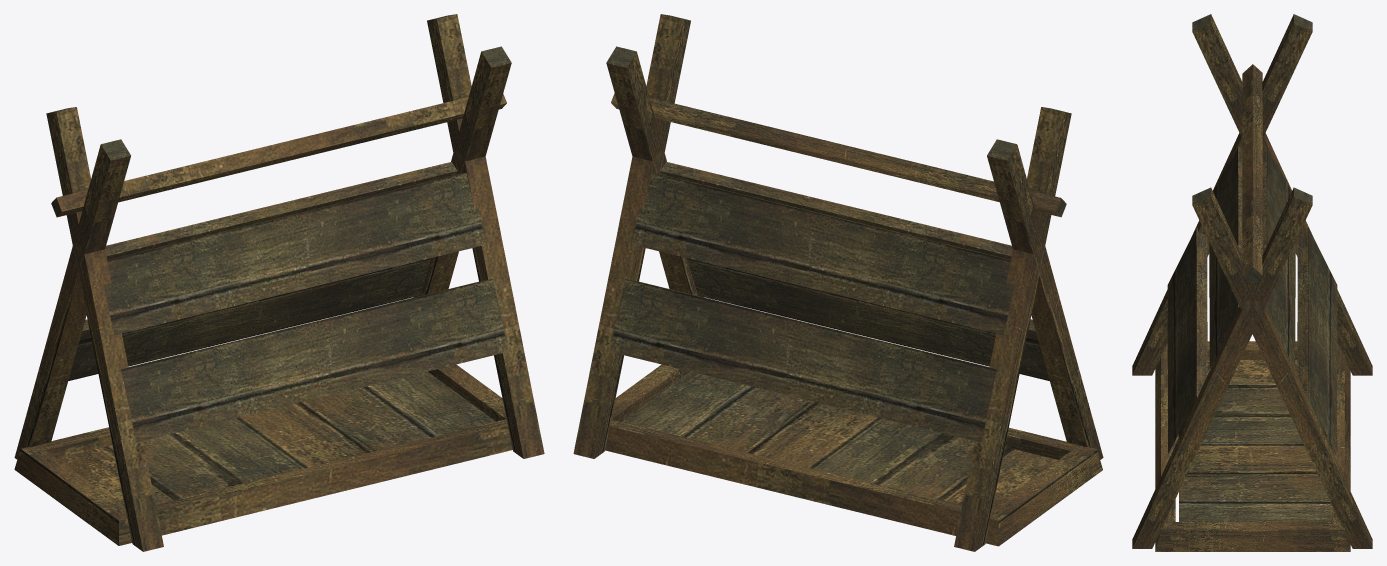
File: table2.fbx
The picture shows the model from 3 angles, left to right: view 1: azimuth 30°, elevation 25°; view 2: azimuth 150°, elevation 25°; view 3: azimuth 270°, elevation 25°; orthographic projection. The views are drawn at different scales.
Parts seen in each view (by area): view 1: Box03; view 2: Box03; view 3: Box03.
Part boxes in pixels (bbox=[...]): Box03: bbox=[14, 14, 544, 551]; Box03: bbox=[573, 14, 1103, 551]; Box03: bbox=[1132, 14, 1372, 551].
Size of the model in its own units: 1.84 by 1.49 by 0.9198.
